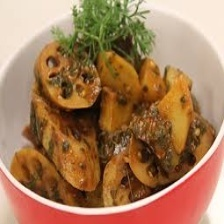sabzi: (9, 32, 219, 208)
